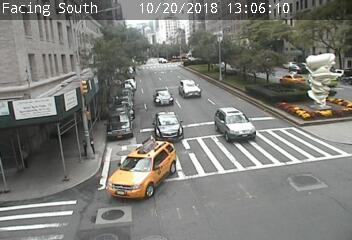car: (121, 146, 171, 201), (154, 114, 183, 139), (221, 113, 253, 135), (180, 81, 199, 96), (156, 93, 174, 104)
